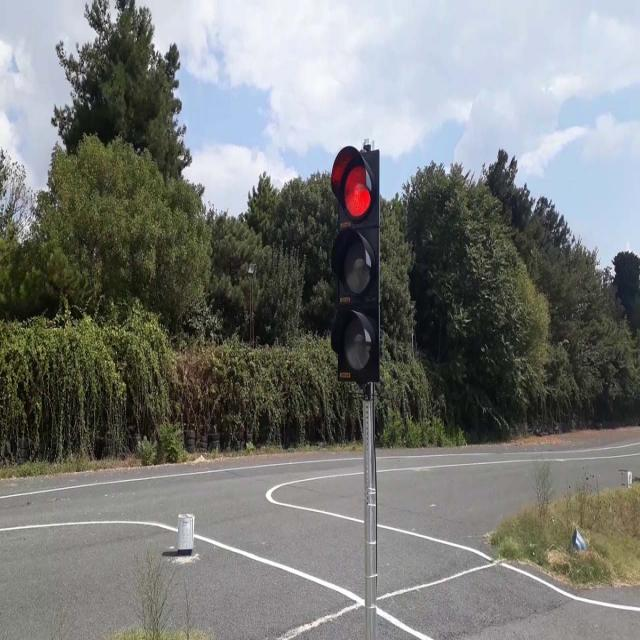kirmizi: (332, 152, 378, 374)
